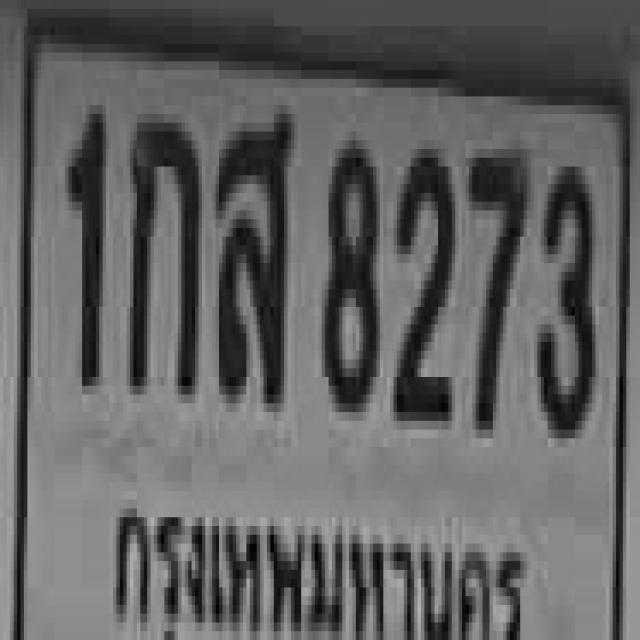1: (65, 101, 103, 381)
10GorGai: (127, 114, 195, 386)
2: (390, 140, 452, 412)
3: (534, 158, 592, 430)
49SorSuea: (214, 105, 289, 395)
7: (466, 140, 524, 421)
8: (318, 132, 376, 404)
Bangkok: (111, 489, 538, 640)
